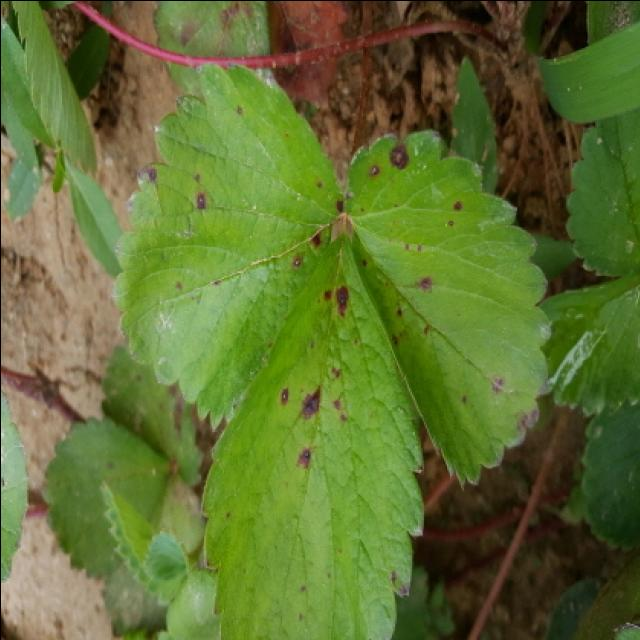Leaf Spot: (197, 228, 426, 640), (109, 62, 342, 433), (341, 128, 554, 492), (37, 412, 171, 583), (97, 340, 205, 488)
